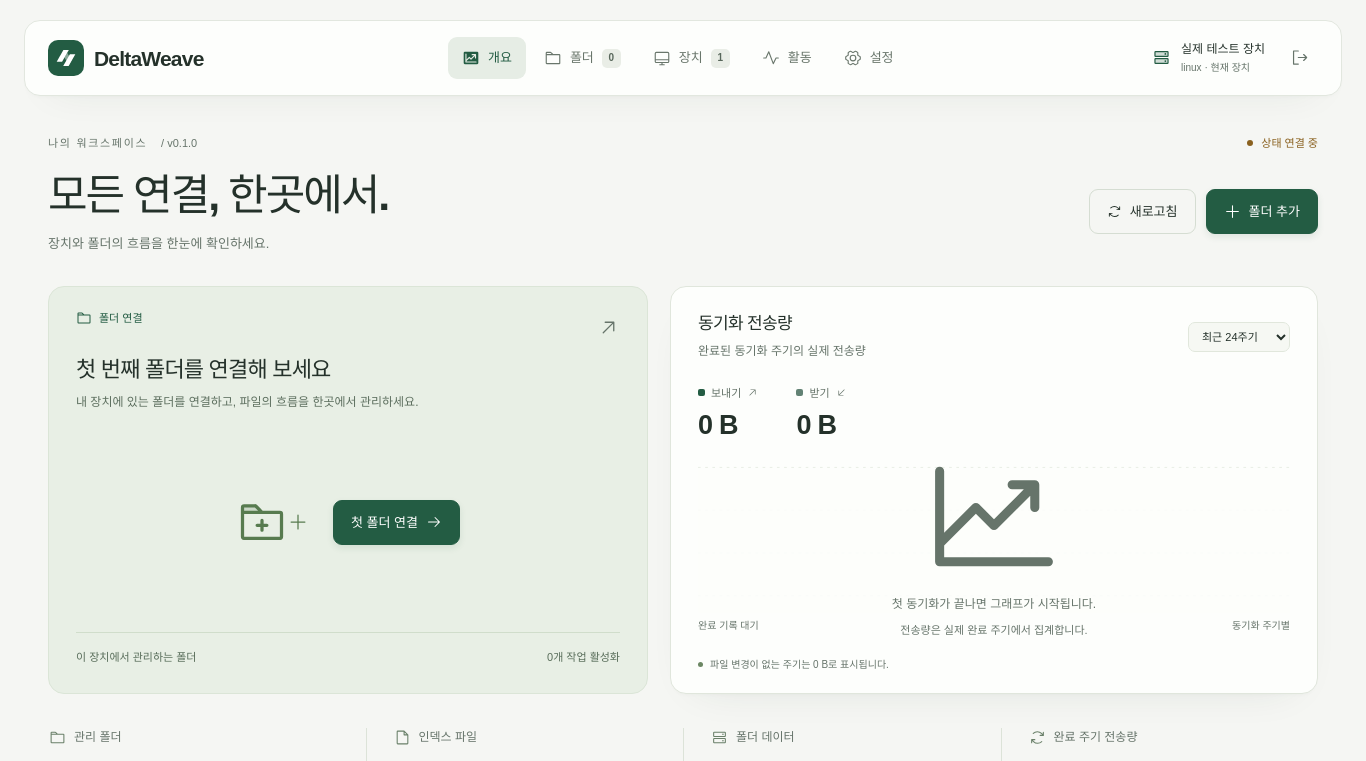
Test: preserves settings edits when the server rejects the save
Expected: the heading "첫 번째 폴더를 연결해 보세요" is shown, [76,357,330,382]
Click the button "설정" at (869, 58), box [830,37,908,79]
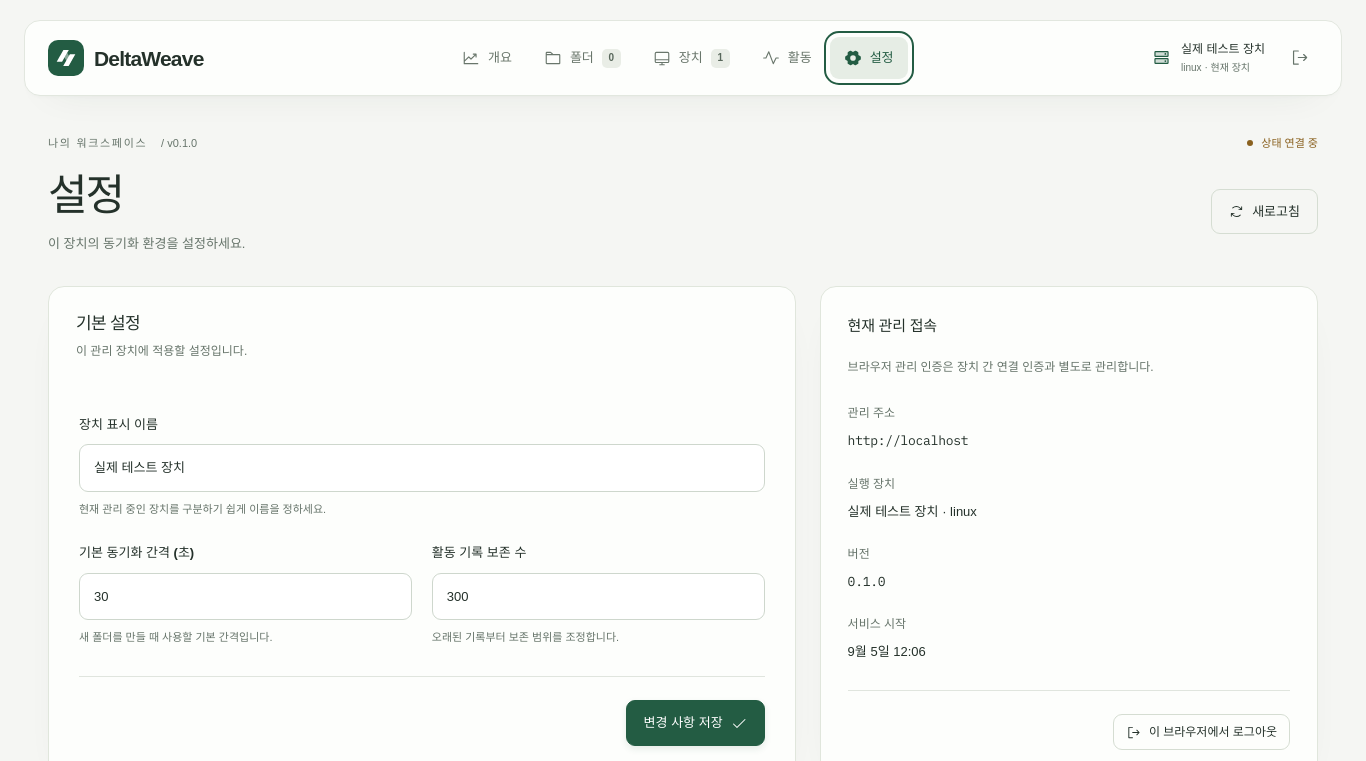
Replace the text in the field labelled "장치 표시 이름" with "수정한 장치" at (422, 468), box [79,444,765,492]
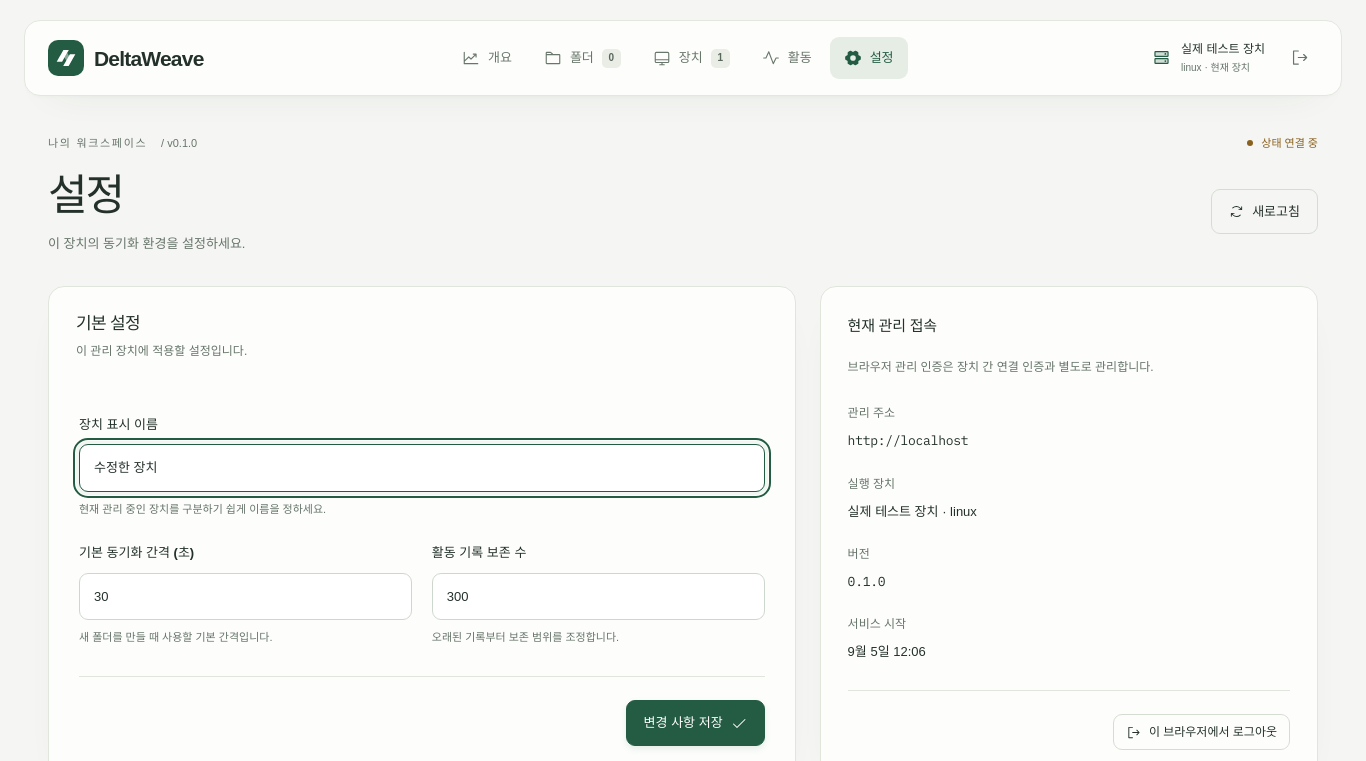
Click the button "변경 사항 저장" at (695, 723), box [626,700,765,746]
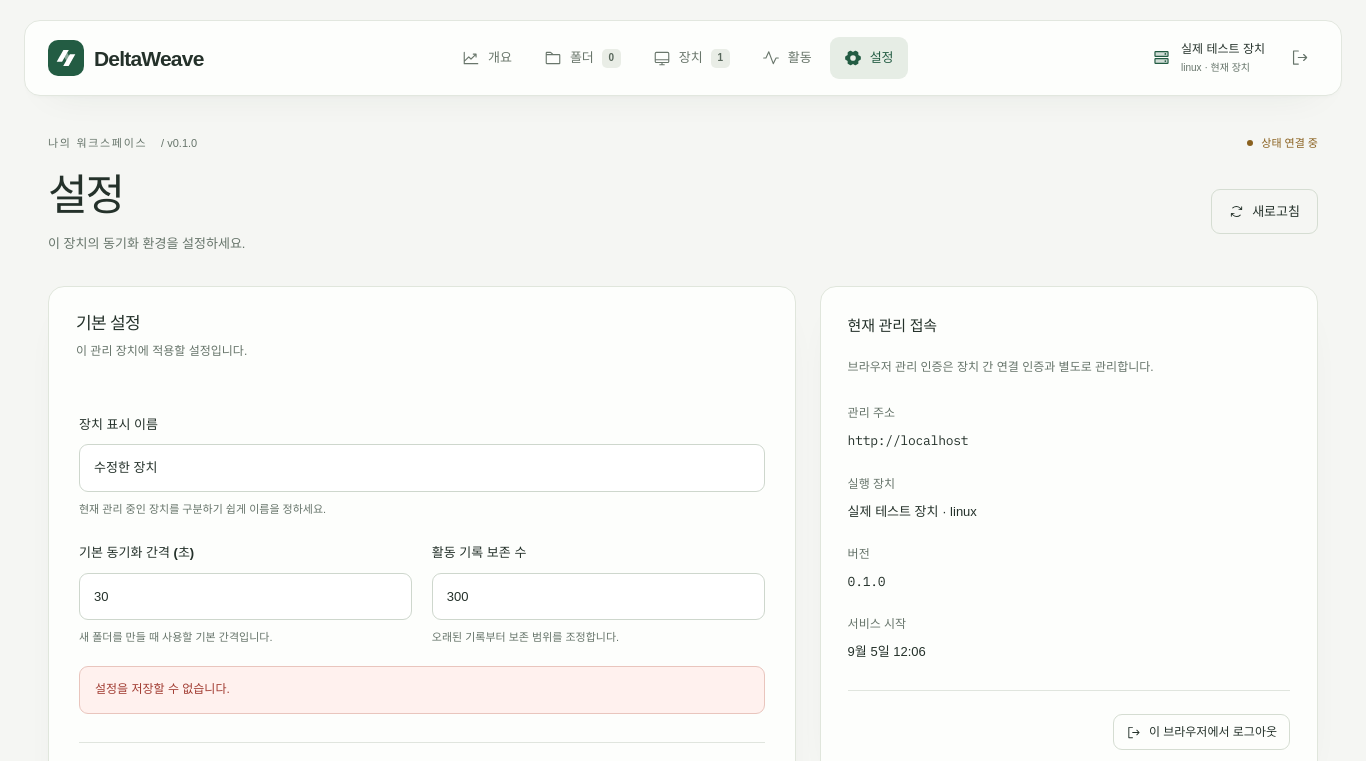
Result: the message reads "설정을 저장할 수 없습니다." at [95,682,230,696]
